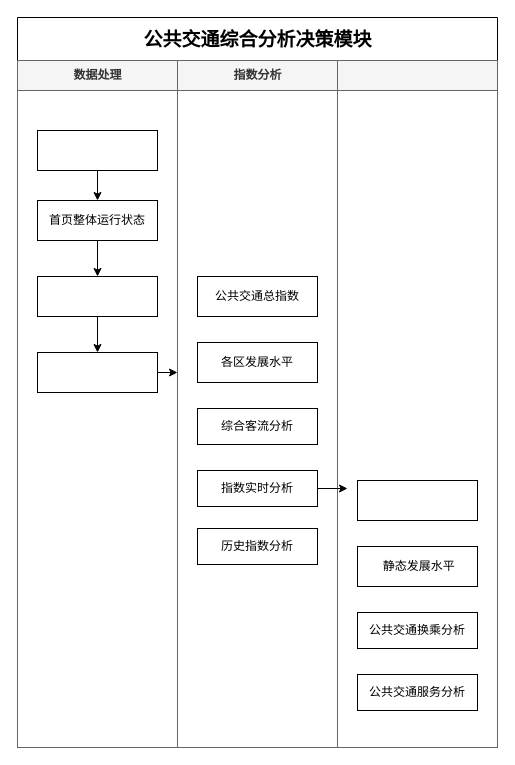
This 515x765 diagram has some shape labels left out. The shapes that lost their labels are listed below. From the top down, each one's box as (x1, y1, x2, y2) in pixels, then its label:
(36, 130, 158, 170): 权限管理
(36, 276, 158, 316): 综合数据监控
(36, 352, 158, 392): 数据分析
(336, 60, 498, 748): 场站客流
(356, 480, 478, 520): 实时服务水平
